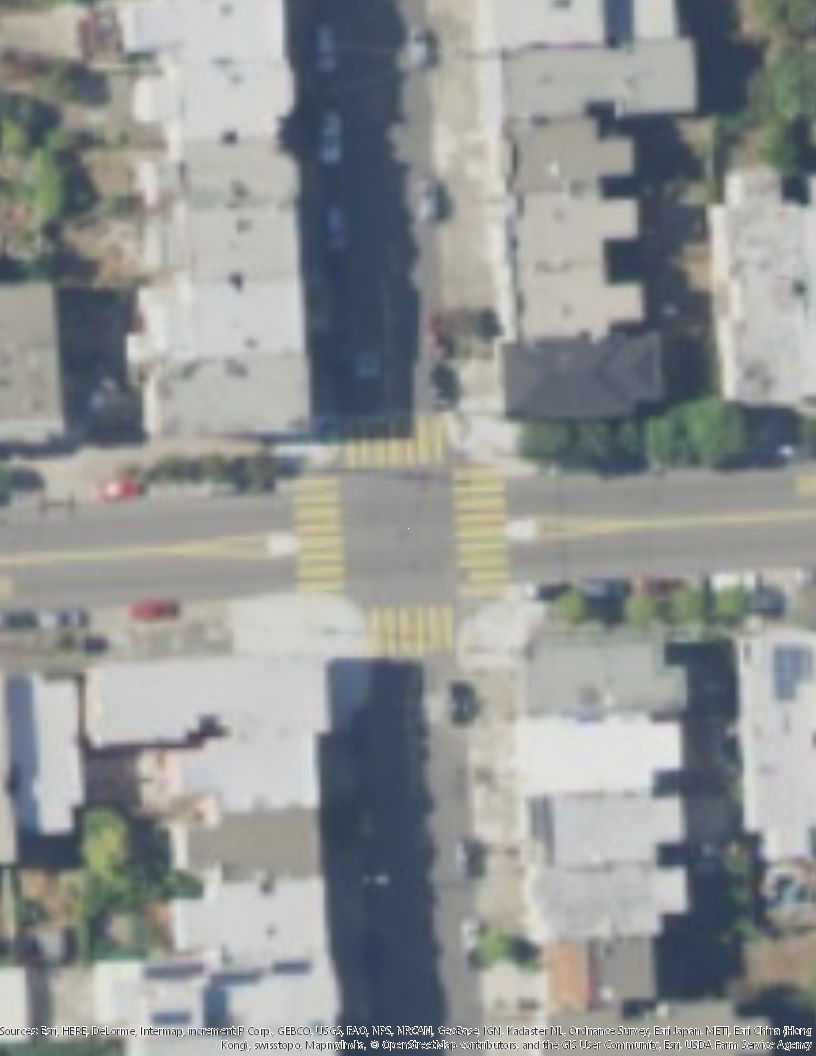zebracross: (450, 460, 510, 601), (347, 417, 452, 471), (296, 476, 344, 589), (372, 603, 455, 654)
